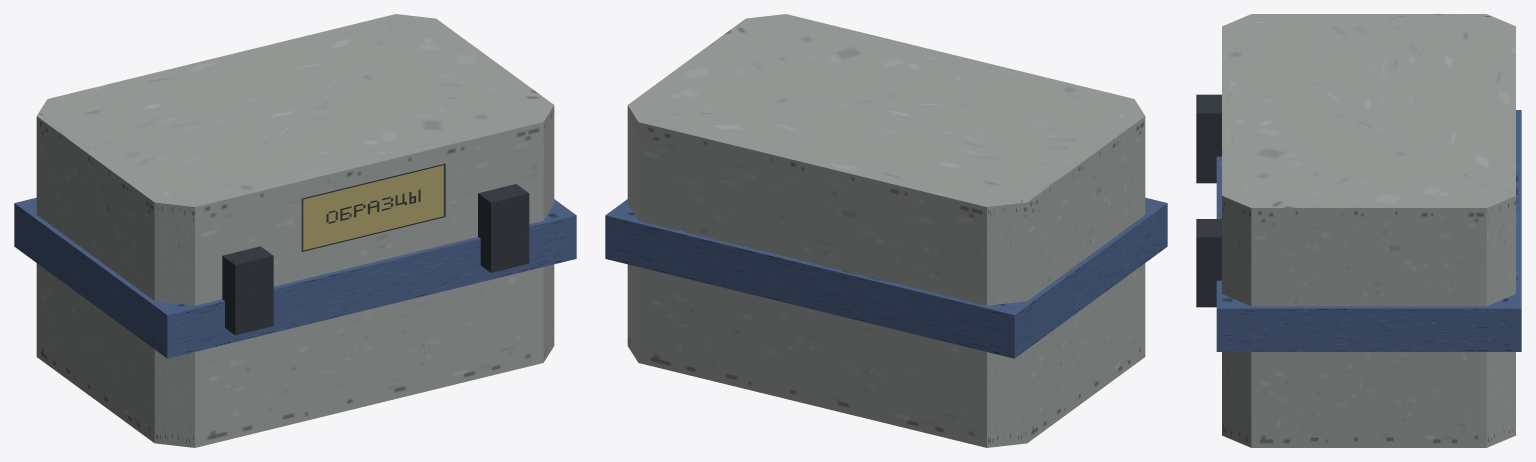
File: ColdSampleCase.fbx
The picture shows the model from 3 angles, left to right: view 1: azimuth 30°, elevation 25°; view 2: azimuth 150°, elevation 25°; view 3: azimuth 270°, elevation 25°; orthographic projection.
Visible parts, largest first — view 1: ColdSampleCase; view 2: ColdSampleCase; view 3: ColdSampleCase.
Boxes of the visible parts, x1,y1,x2,y2 form: ColdSampleCase: (14, 14, 576, 447); ColdSampleCase: (605, 14, 1167, 447); ColdSampleCase: (1196, 14, 1521, 447).
Size of the model in its own units: 128 by 72 by 88.5.
